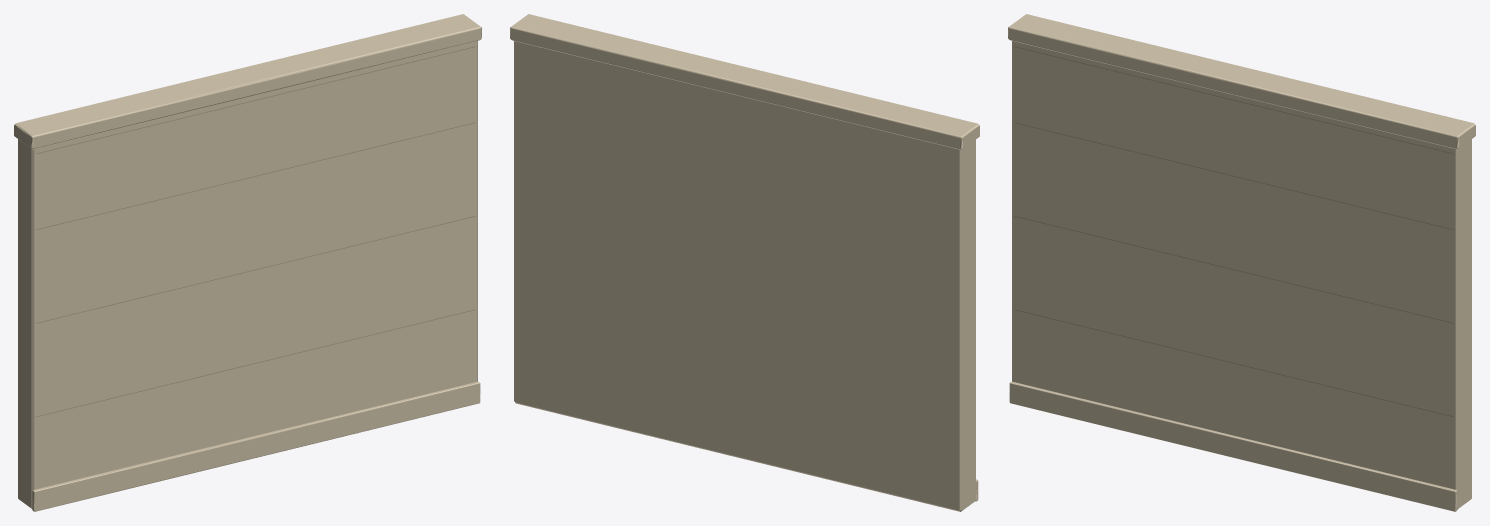
The model's file is wall-solid.fbx.
The picture shows the model from 3 angles, left to right: view 1: azimuth 30°, elevation 25°; view 2: azimuth 150°, elevation 25°; view 3: azimuth 330°, elevation 25°; orthographic projection.
Parts seen in each view (by area): view 1: wall-solid; view 2: wall-solid; view 3: wall-solid.
Part boxes in pixels (box(x1,y1,x2,y2)): wall-solid: box(14, 14, 481, 511); wall-solid: box(510, 14, 979, 511); wall-solid: box(1008, 14, 1475, 511).
Bounding box in the file's own units: 404 × 322 × 29.25.
